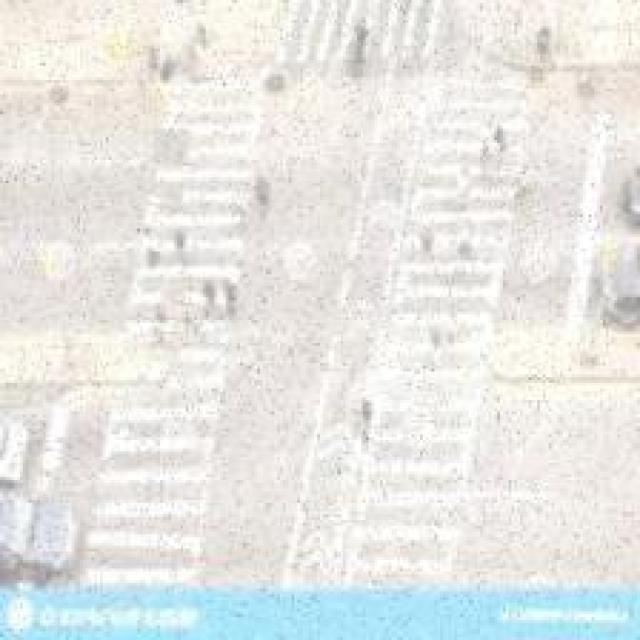walk-crossing: (97, 67, 266, 584), (363, 73, 526, 587), (277, 0, 474, 69)
